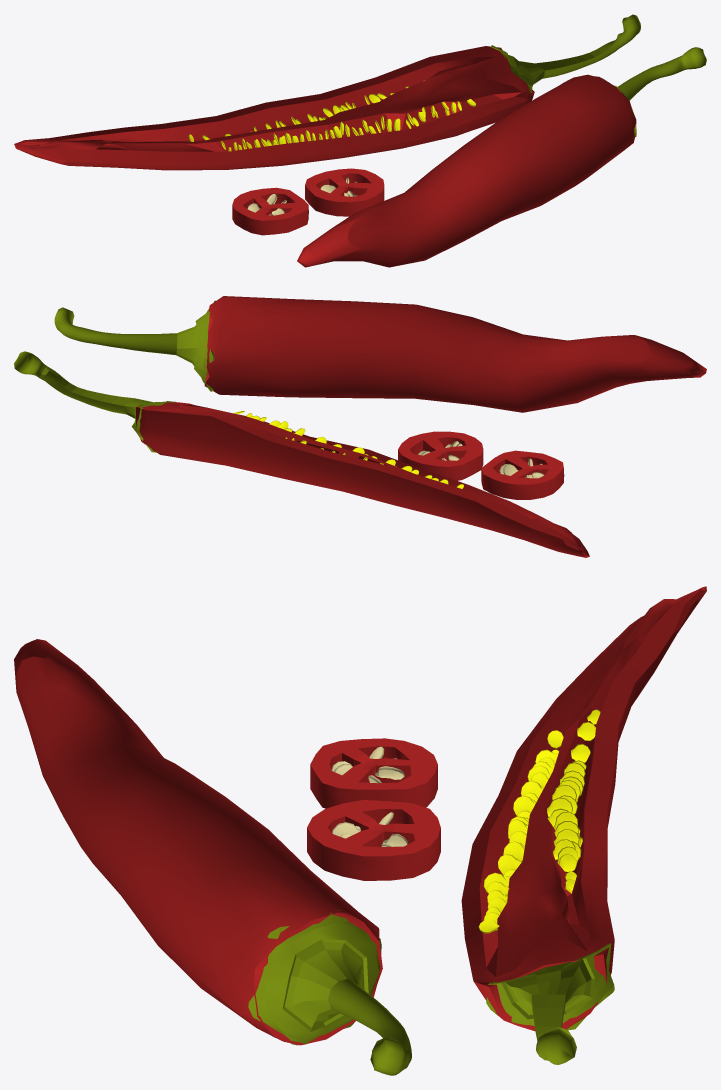
File: chili_B_OBJ_low.obj
3 views of the same model, one above another, from view 1: azimuth 30°, elevation 25°; view 2: azimuth 150°, elevation 25°; view 3: azimuth 270°, elevation 25° (orthographic). The views are drawn at different scales.
Visible parts, largest first — view 1: chili_half_body, chili_A_body, chili_slice_A, chili_slice_A001, chili_half_top_part, chili_A_top_part; view 2: chili_A_body, chili_half_body, chili_A_top_part, chili_slice_A001, chili_slice_A, chili_half_top_part; view 3: chili_A_body, chili_half_body, chili_A_top_part, chili_slice_A, chili_half_top_part, chili_slice_A001.
Part boxes in pixels (x1,y1,x2,y2): chili_half_body: [14, 46, 534, 170]; chili_A_body: [297, 74, 636, 267]; chili_slice_A: [305, 168, 384, 216]; chili_slice_A001: [232, 187, 308, 235]; chili_half_top_part: [491, 14, 640, 92]; chili_A_top_part: [613, 47, 706, 137]; chili_A_body: [204, 296, 706, 412]; chili_half_body: [136, 402, 589, 557]; chili_A_top_part: [54, 300, 215, 391]; chili_slice_A001: [481, 450, 564, 499]; chili_slice_A: [398, 431, 483, 480]; chili_half_top_part: [14, 351, 176, 452]; chili_A_body: [14, 639, 382, 1045]; chili_half_body: [461, 586, 706, 1031]; chili_A_top_part: [248, 910, 411, 1075]; chili_slice_A: [307, 800, 440, 880]; chili_half_top_part: [486, 943, 614, 1064]; chili_slice_A001: [310, 738, 437, 808].
Bounding box in the file's own units: 5.95 × 0.8203 × 3.52.
